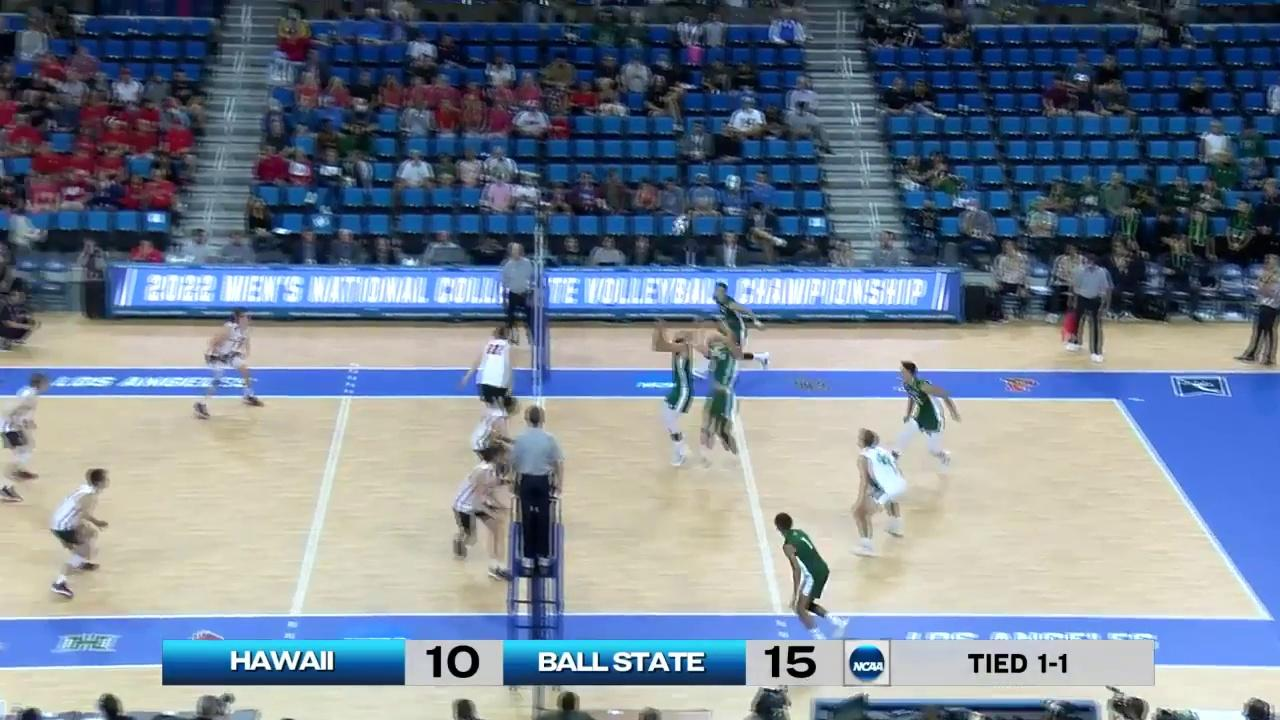player: (773, 513, 853, 641), (885, 362, 959, 482), (445, 447, 509, 584), (50, 468, 112, 596), (196, 308, 264, 417), (695, 284, 770, 376), (849, 429, 904, 554), (468, 327, 524, 444), (469, 396, 523, 517), (648, 329, 694, 468), (0, 373, 48, 500), (702, 331, 744, 469)
refree: (510, 406, 564, 570), (1068, 257, 1111, 362), (501, 244, 540, 347)
